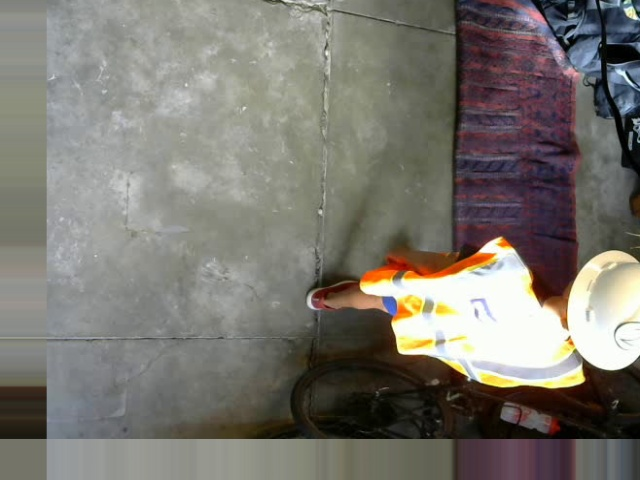two: (613, 321, 639, 350)
